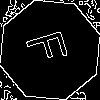F: (25, 25, 78, 67)
